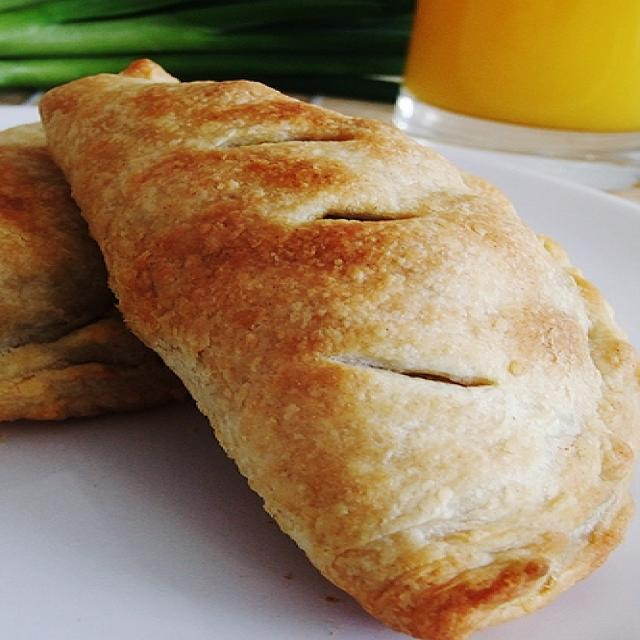炸货点心: (14, 52, 626, 626)
